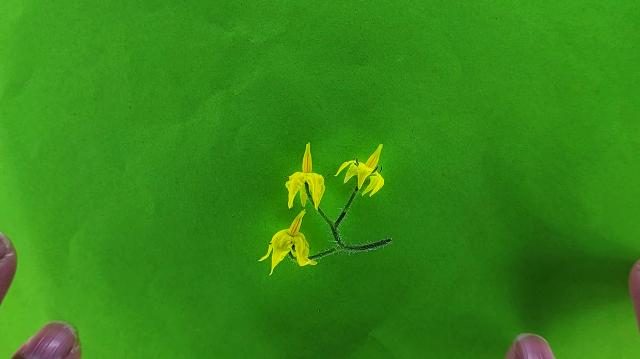Anthesis: (258, 208, 315, 277), (284, 142, 327, 213), (333, 143, 386, 199)
